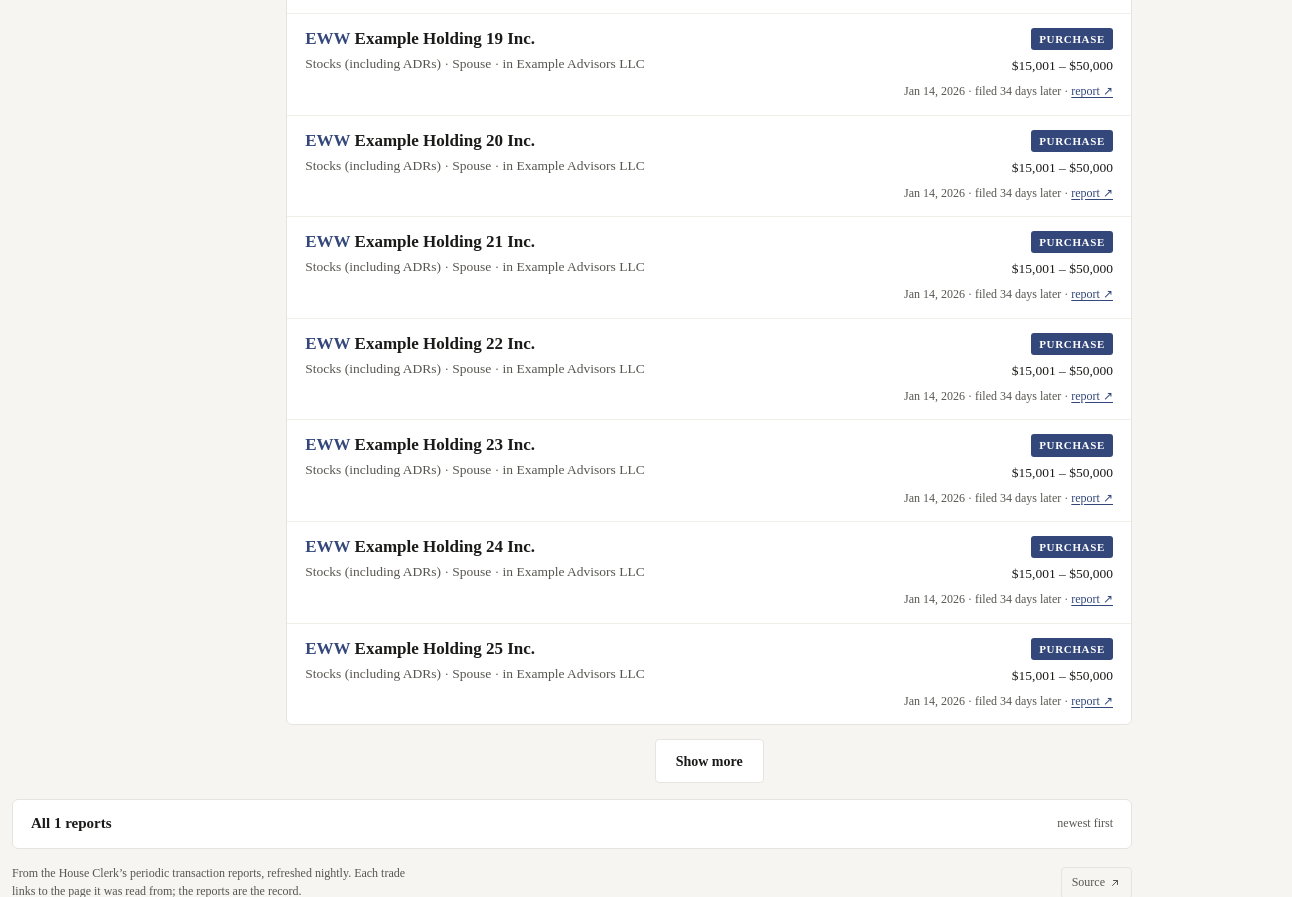
Test: stock trades: the list › shows 25 trades at a time and offers the rest
(page scrolled)
Click the button "Show more".
click(709, 761)  # box [655,739,764,783]
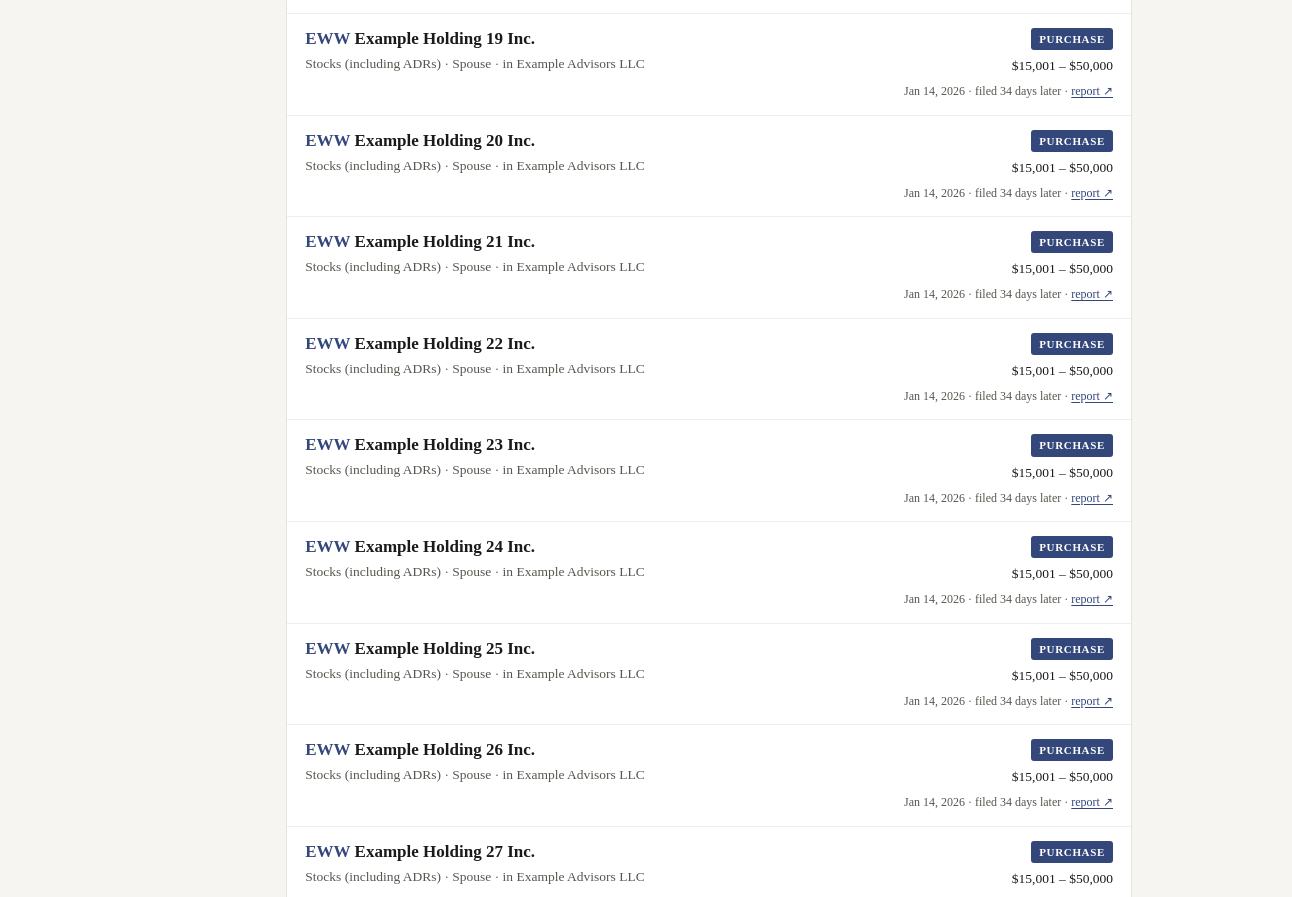
Result: the button "Show more" is gone
